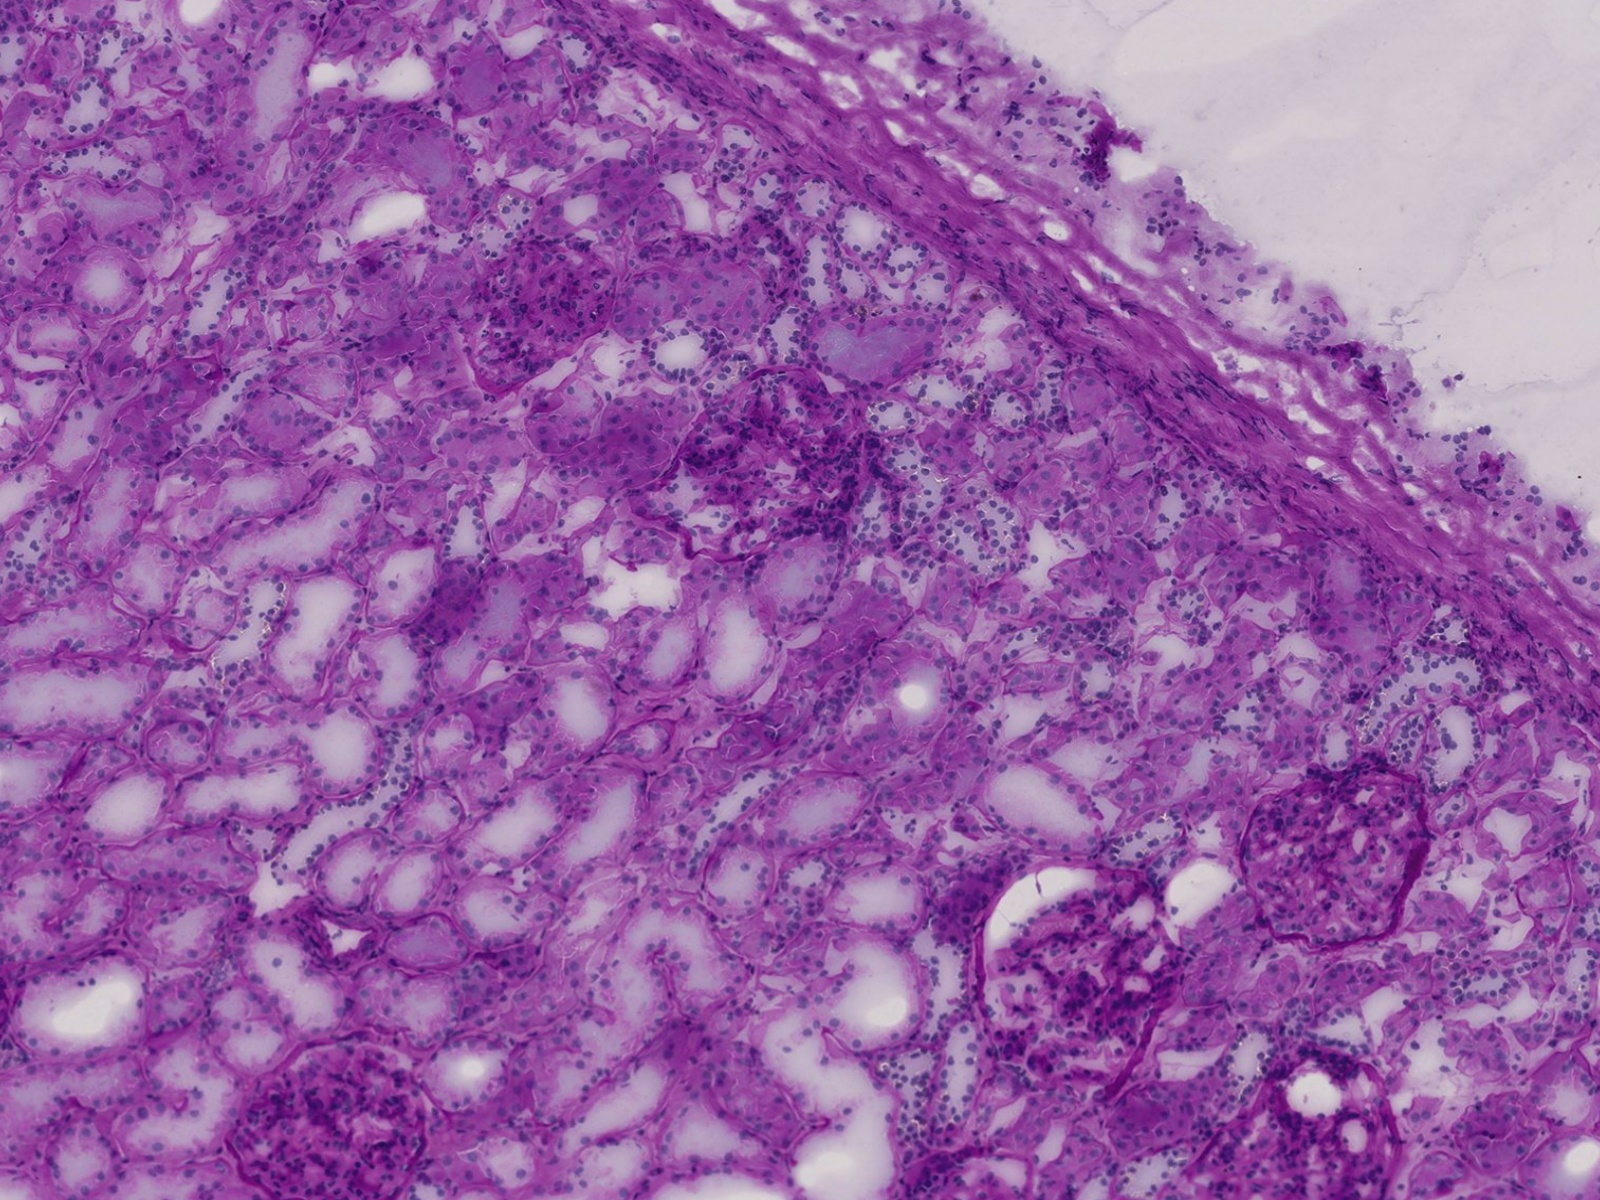Glomeruli: (968, 867, 1177, 1121), (636, 358, 879, 570), (1233, 753, 1439, 955), (222, 1035, 436, 1200), (1197, 1041, 1407, 1200), (457, 229, 615, 408)
